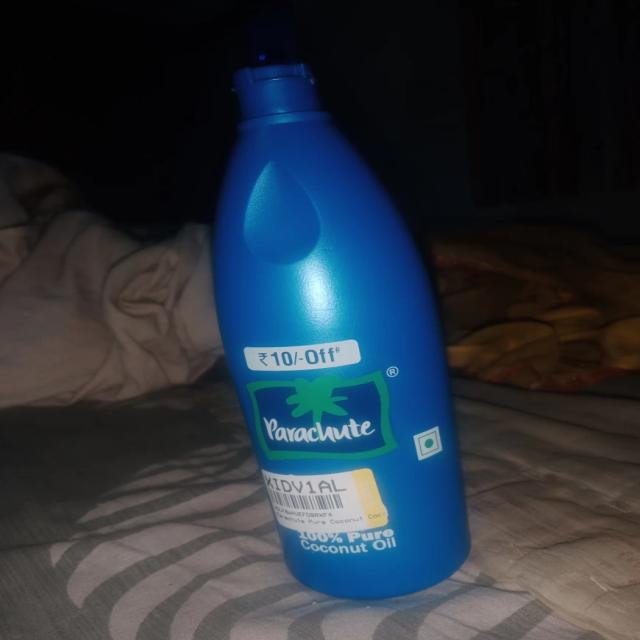parachute_oil: (202, 55, 488, 606)
